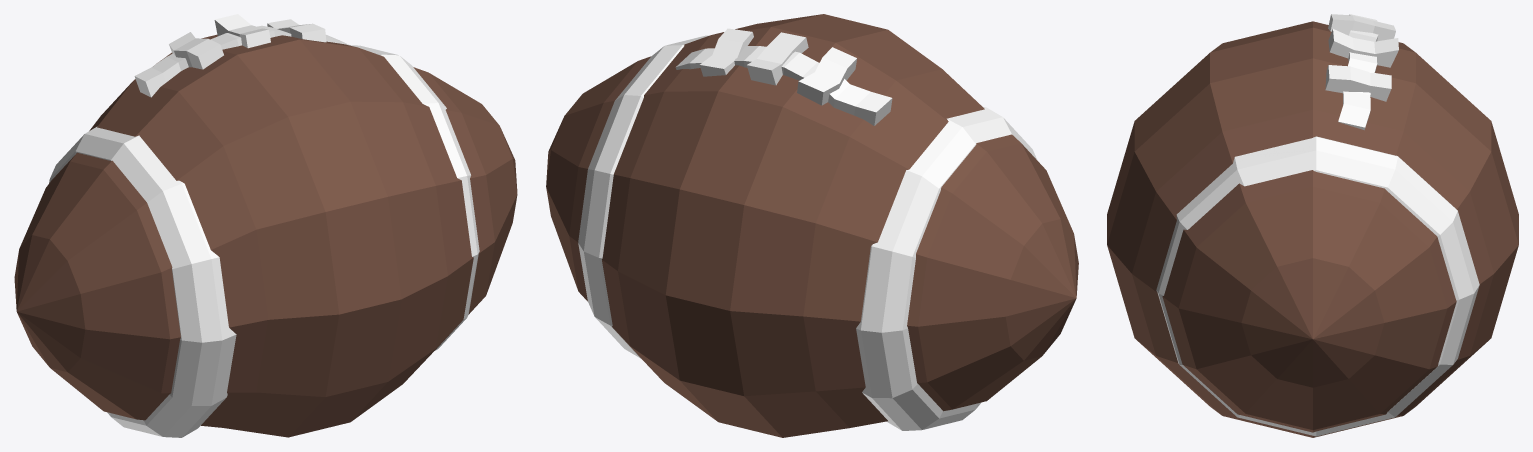
The model's file is AmericanFootball.glb.
3 renders of one model, left to right at view 1: azimuth 30°, elevation 25°; view 2: azimuth 150°, elevation 25°; view 3: azimuth 270°, elevation 25°, orthographic. The views are drawn at different scales.
Parts seen in each view (by area): view 1: group195832489, group301778070, group872756140, group351838223, group2112704088, group449145486, group62371925; view 2: group195832489, group301778070, group872756140, group351838223, group2112704088, group449145486, group62371925; view 3: group195832489, group872756140, group351838223, group62371925, group449145486, group2112704088.
Boxes of the visible parts, left/top/right/bottom form: group195832489: left=14, top=34, right=517, bottom=437; group301778070: left=49, top=126, right=236, bottom=437; group872756140: left=350, top=45, right=479, bottom=350; group351838223: left=134, top=25, right=350, bottom=97; group2112704088: left=169, top=32, right=223, bottom=69; group449145486: left=214, top=14, right=270, bottom=48; group62371925: left=267, top=19, right=326, bottom=42; group195832489: left=546, top=14, right=1078, bottom=437; group301778070: left=856, top=107, right=1037, bottom=430; group872756140: left=578, top=35, right=708, bottom=358; group351838223: left=675, top=46, right=892, bottom=125; group2112704088: left=797, top=47, right=856, bottom=105; group449145486: left=746, top=32, right=808, bottom=85; group62371925: left=699, top=28, right=753, bottom=76; group195832489: left=1107, top=21, right=1518, bottom=437; group872756140: left=1156, top=136, right=1479, bottom=436; group351838223: left=1338, top=14, right=1378, bottom=130; group62371925: left=1325, top=65, right=1391, bottom=101; group449145486: left=1328, top=29, right=1398, bottom=67; group2112704088: left=1328, top=14, right=1395, bottom=41.
Size of the model in its own units: 0.45 by 0.3219 by 0.3151.
